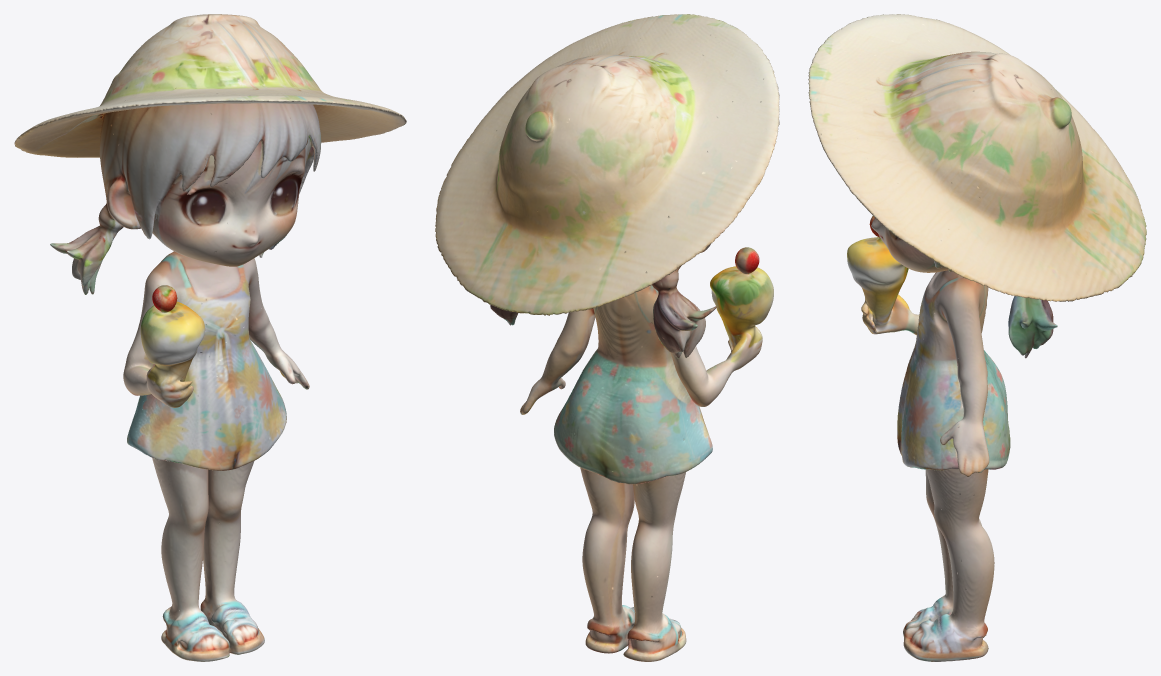
Rendered from Summer.glb.
The picture shows the model from 3 angles, left to right: view 1: azimuth 30°, elevation 25°; view 2: azimuth 150°, elevation 25°; view 3: azimuth 270°, elevation 25°; orthographic projection. The views are drawn at different scales.
Size of the model in its own units: 1.15 by 2 by 1.04.
1 material, 1 textured.
